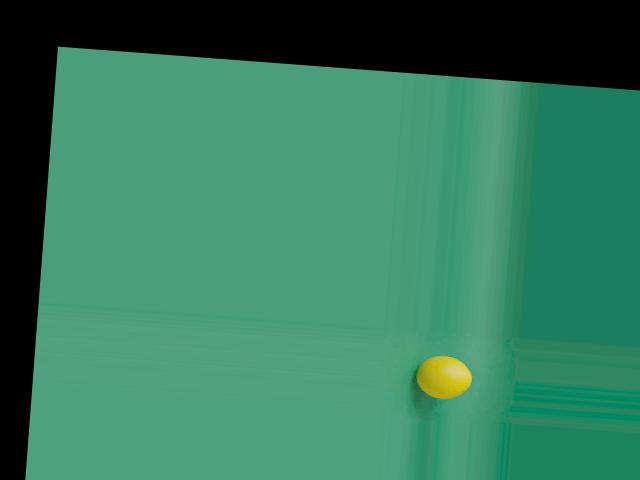egg: (414, 353, 474, 399)
